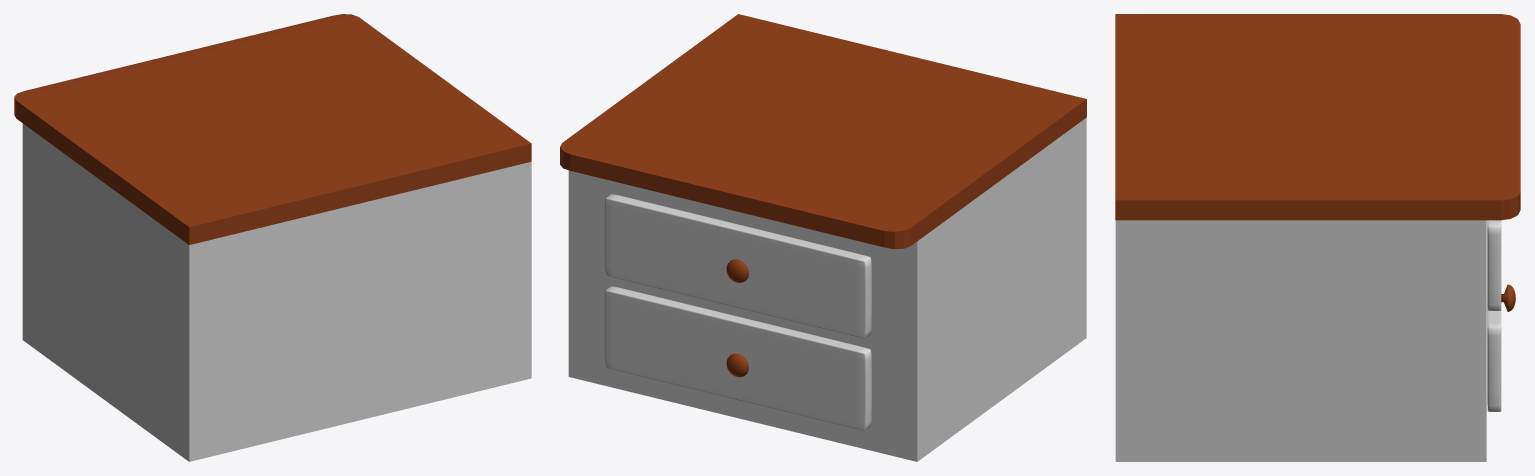
Rendered from actualwide.glb.
3 renders of one model, left to right at view 1: azimuth 30°, elevation 25°; view 2: azimuth 150°, elevation 25°; view 3: azimuth 270°, elevation 25°, orthographic. The views are drawn at different scales.
Visible parts, largest first — view 1: Cube.015; view 2: Cube.015, Sphere.001; view 3: Cube.015, Sphere.001.
Part boxes in pixels (x1,y1,x2,y2): Cube.015: (14, 14, 531, 461); Cube.015: (560, 14, 1086, 461); Sphere.001: (604, 194, 871, 430); Cube.015: (1115, 14, 1520, 461); Sphere.001: (1487, 220, 1515, 411).
Size of the model in its own units: 0.9991 by 0.6543 by 0.9181.
